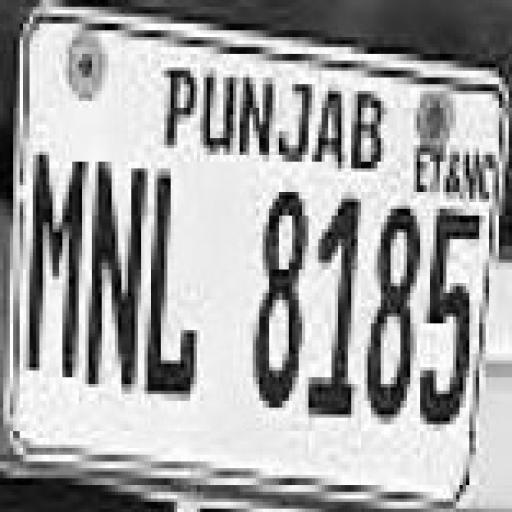1: (315, 184, 358, 418)
5: (422, 197, 480, 430)
8: (254, 181, 304, 415), (369, 213, 417, 416)
L: (143, 173, 201, 417)
M: (33, 148, 78, 382)
N: (90, 156, 140, 392)
